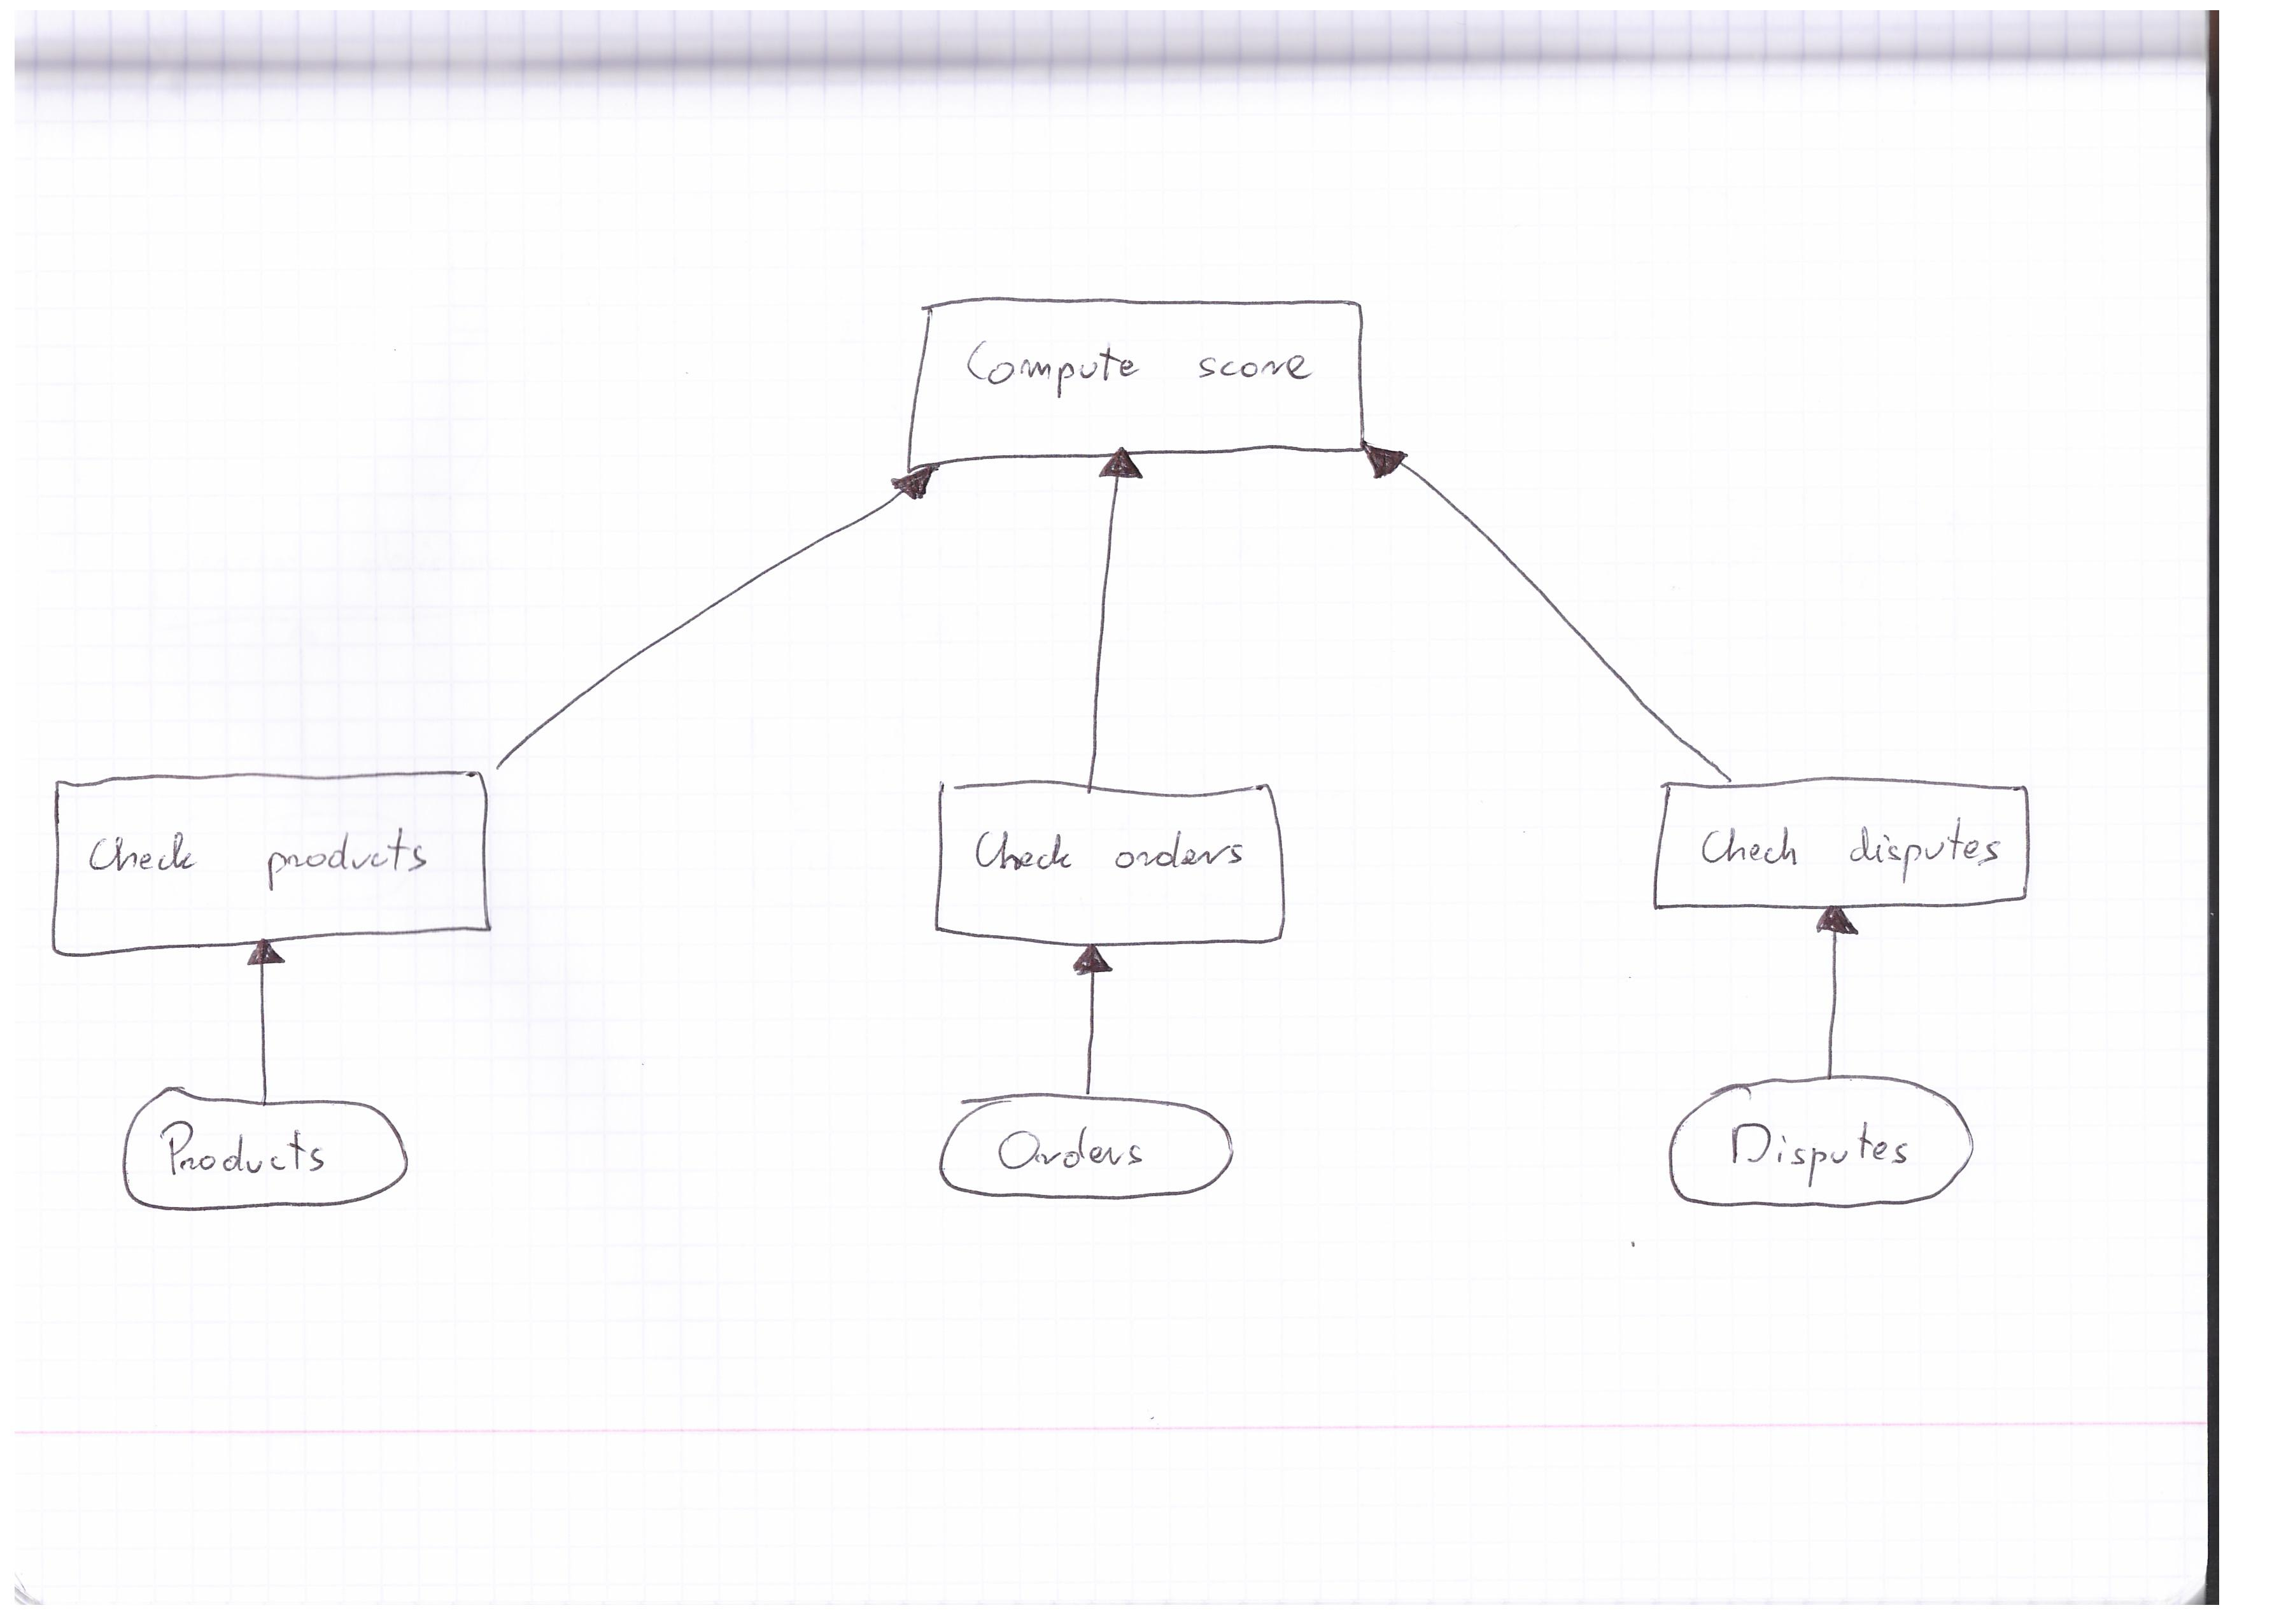arrow_information_requirement: (483, 455, 951, 773), (1351, 432, 1747, 786), (1053, 441, 1156, 780), (1796, 903, 1861, 1072), (230, 928, 293, 1100), (1060, 939, 1119, 1091)
node_decision: (44, 766, 497, 954), (907, 290, 1371, 466), (937, 777, 1295, 953), (1643, 768, 2035, 914)
node_input_data: (1652, 1072, 1987, 1218), (107, 1081, 431, 1214), (931, 1088, 1244, 1211)
text: (76, 808, 450, 905), (958, 325, 1323, 402), (965, 810, 1262, 896), (1690, 808, 2010, 888), (1720, 1104, 1922, 1192), (155, 1109, 343, 1188), (982, 1118, 1161, 1181)
